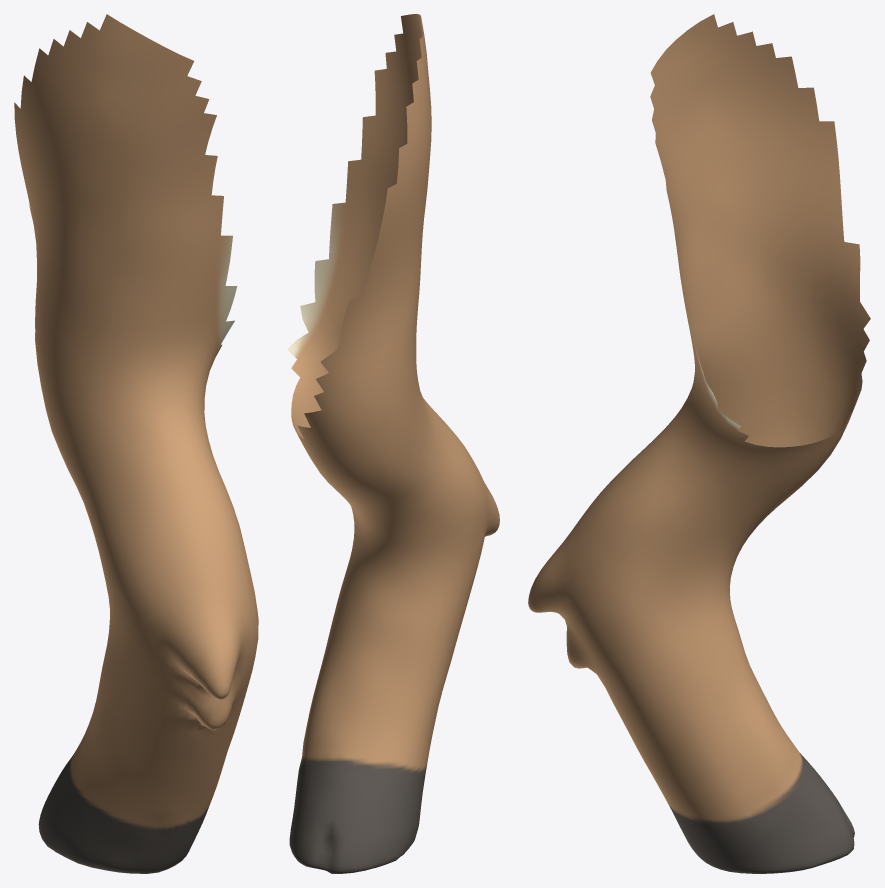
File: Gompers PTD.obj
The picture shows the model from 3 angles, left to right: view 1: azimuth 30°, elevation 25°; view 2: azimuth 150°, elevation 25°; view 3: azimuth 270°, elevation 25°; orthographic projection. The views are drawn at different scales.
Visible parts, largest first — view 1: Pata_trasera_Der; view 2: Pata_trasera_Der; view 3: Pata_trasera_Der.
Part boxes in pixels (left/top/right/bottom): Pata_trasera_Der: left=14, top=14, right=258, bottom=873; Pata_trasera_Der: left=287, top=14, right=499, bottom=873; Pata_trasera_Der: left=528, top=14, right=870, bottom=873.
Size of the model in its own units: 0.1984 by 1.03 by 0.3888.
